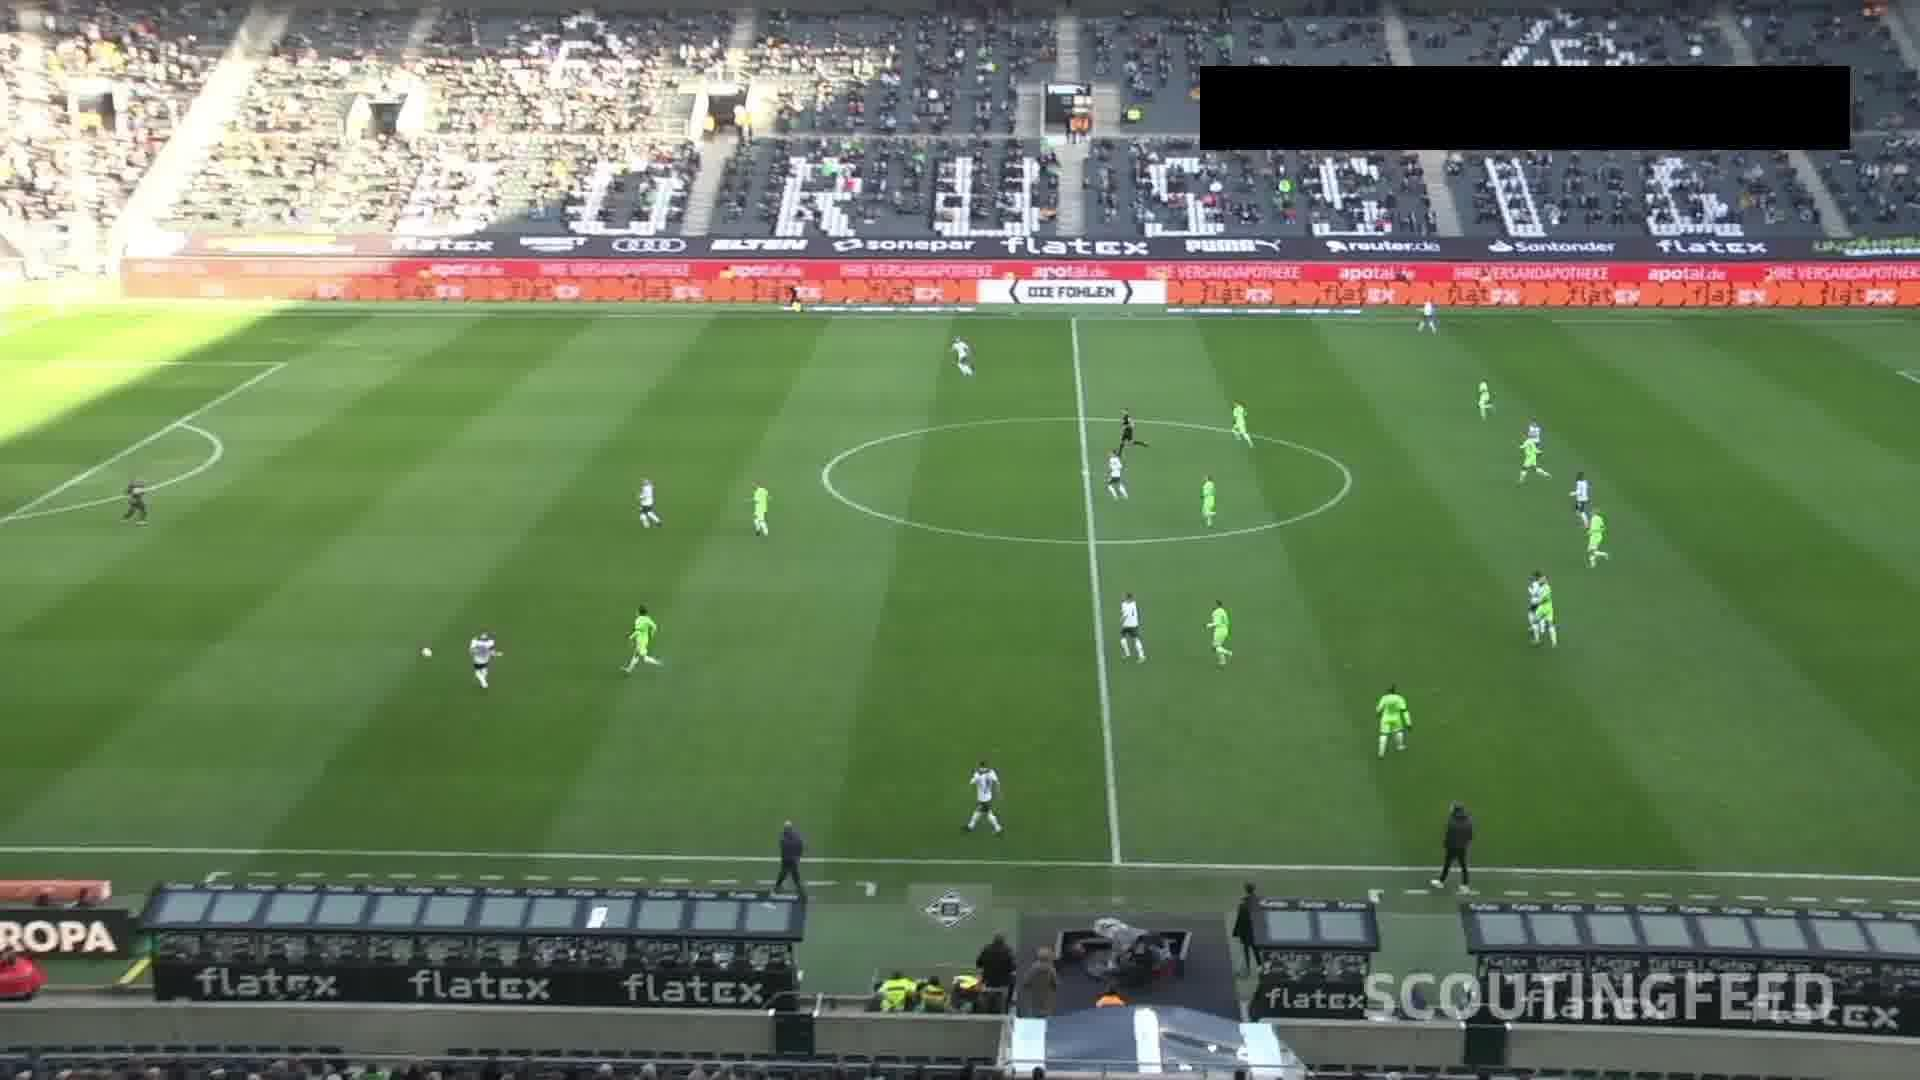football: (417, 646, 433, 661)
